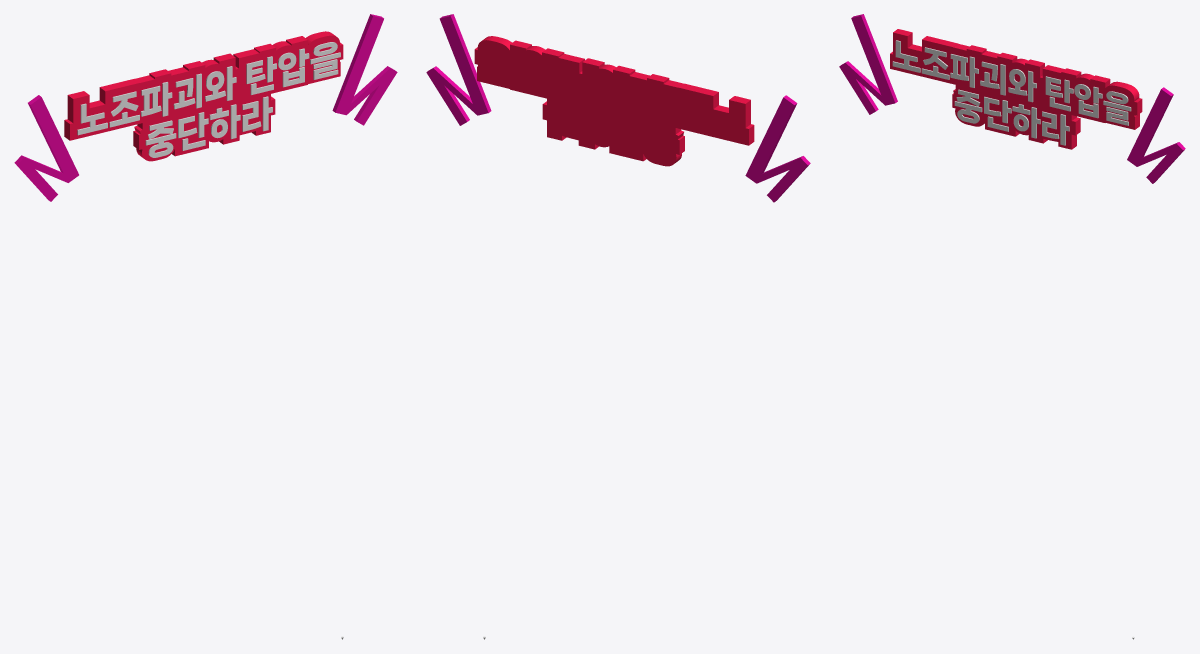
Rendered from nozo.glb.
3 views of the same model, side by side, from view 1: azimuth 30°, elevation 25°; view 2: azimuth 150°, elevation 25°; view 3: azimuth 330°, elevation 25° (orthographic). The views are drawn at different scales.
Visible parts, largest first — view 1: Body36, Body39, Body38; view 2: Body36, Body39, Body38; view 3: Body36, Body38, Body39.
Part boxes in pixels (x1,y1,x2,y2): Body36: [64, 31, 343, 161]; Body39: [332, 14, 397, 125]; Body38: [14, 95, 78, 201]; Body36: [474, 36, 754, 166]; Body39: [426, 14, 491, 125]; Body38: [745, 95, 810, 202]; Body36: [890, 29, 1142, 149]; Body38: [839, 14, 897, 114]; Body39: [1127, 87, 1185, 183].
Bounding box in the file's own units: 1.37 × 2.13 × 0.0509.
